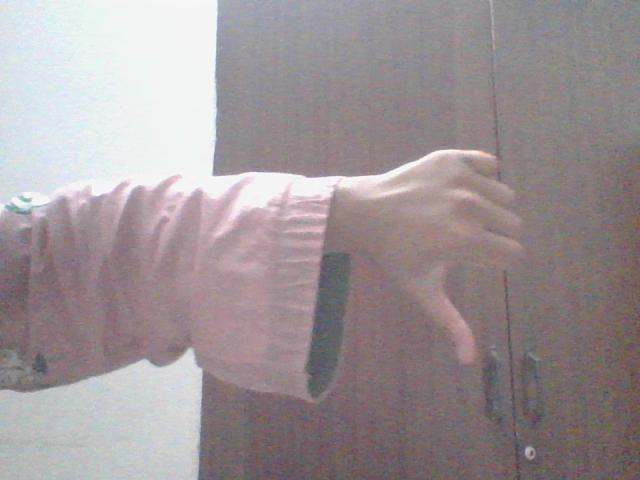thumbs-down: (369, 146, 530, 374)
